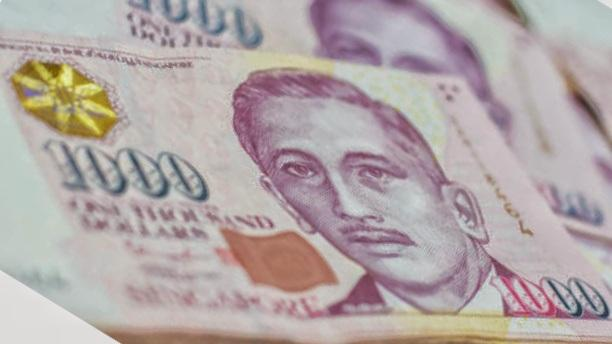1000SingaporeDollar: (0, 49, 612, 318)
